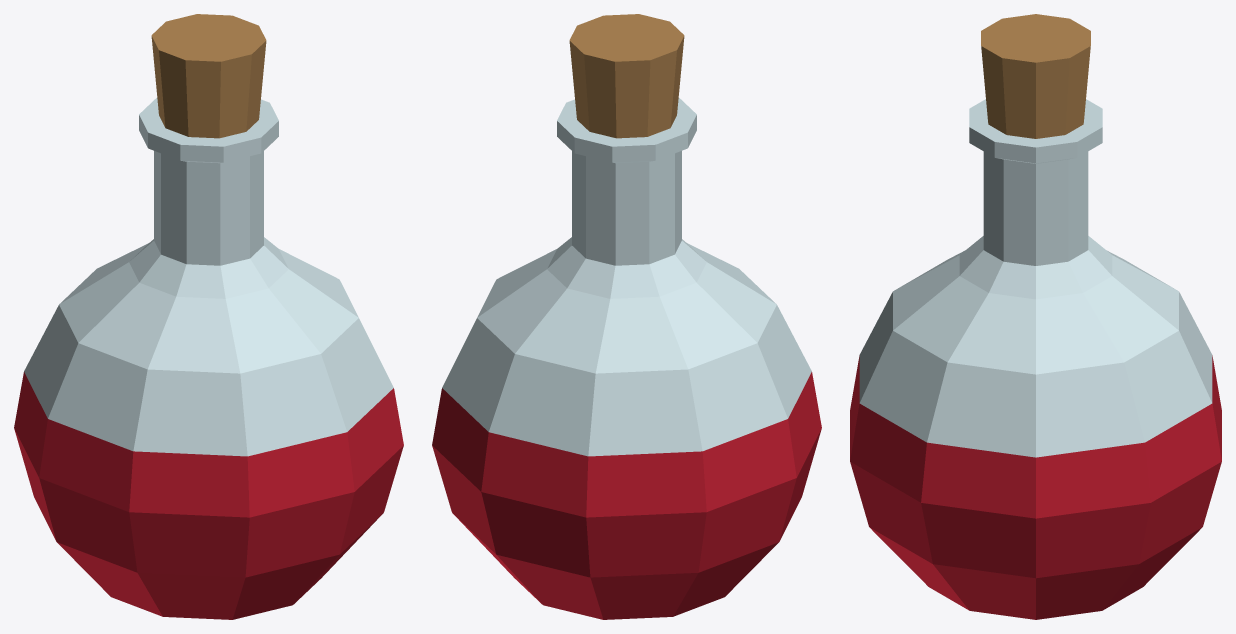
File: prop-item-healing-potion.glb
3 renders of one model, left to right at view 1: azimuth 30°, elevation 25°; view 2: azimuth 150°, elevation 25°; view 3: azimuth 270°, elevation 25°, orthographic.
Visible parts, largest first — view 1: ItemHealingPotion; view 2: ItemHealingPotion; view 3: ItemHealingPotion.
Part boxes in pixels (left/top/right/bottom): ItemHealingPotion: left=14, top=14, right=403, bottom=619; ItemHealingPotion: left=432, top=14, right=821, bottom=619; ItemHealingPotion: left=850, top=14, right=1221, bottom=619.
Bounding box in the file's own units: 0.156 × 0.235 × 0.1484.
